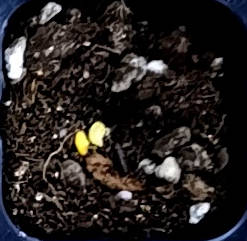pepper seed: (35, 47, 142, 195), (28, 51, 119, 208)
